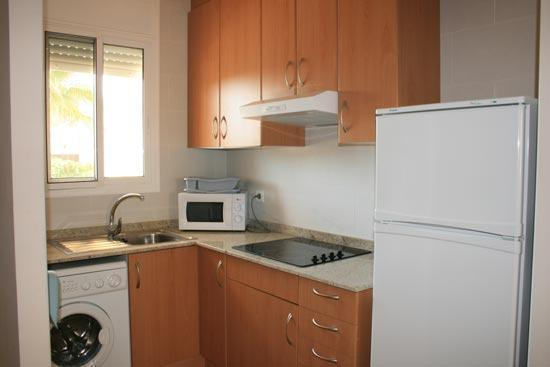Electrodomestico: (376, 111, 524, 365), (55, 266, 131, 363), (235, 228, 373, 267), (181, 192, 248, 235)
Lavaplatos: (65, 196, 187, 253)
